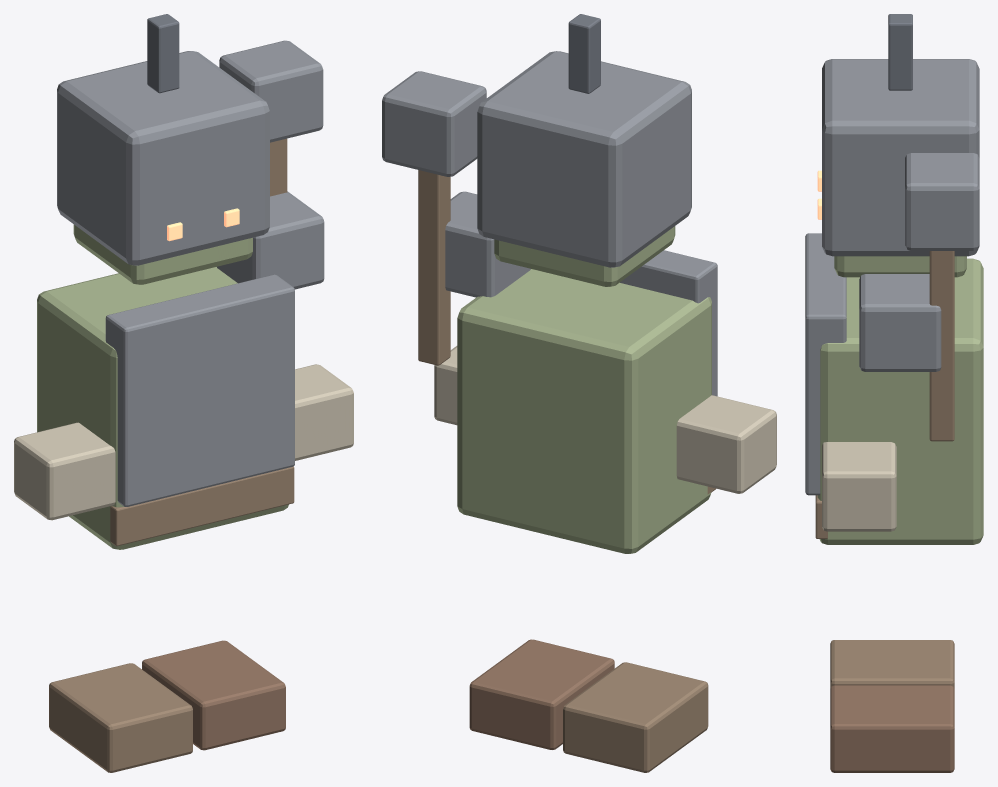
Rendered from iron_gob.glb.
3 renders of one model, left to right at view 1: azimuth 30°, elevation 25°; view 2: azimuth 150°, elevation 25°; view 3: azimuth 270°, elevation 25°, orthographic.
Parts seen in each view (by area): view 1: Head_helmet, Body_plate, Body_torso, Leg_L_boot, Leg_R_boot, Arm_L_wrap, Body_belt, Arm_R_hammer_head, Body_pauldron_R, Arm_R_wrap, Head_skull, Head_horn (+1 smaller); view 2: Body_torso, Head_helmet, Leg_L_boot, Leg_R_boot, Arm_R_hammer_head, Arm_L_wrap, Arm_R_hammer_haft, Body_pauldron_R, Body_plate, Head_skull, Head_horn, Arm_R_wrap; view 3: Body_torso, Head_helmet, Leg_R_boot, Body_pauldron_R, Arm_R_hammer_head, Arm_R_wrap, Body_plate, Leg_L_boot, Arm_R_hammer_haft, Head_skull, Head_horn, Body_belt.
Part boxes in pixels (x1,y1,x2,y2): Head_helmet: (57,51,269,265); Body_plate: (105,274,294,506); Body_torso: (37,267,288,549); Leg_L_boot: (49,663,192,772); Leg_R_boot: (142,640,285,750); Arm_L_wrap: (14,422,115,520); Body_belt: (110,466,294,546); Arm_R_hammer_head: (219,40,323,142); Body_pauldron_R: (217,191,324,289); Arm_R_wrap: (295,364,353,460); Head_skull: (73,224,252,284); Head_horn: (147,14,179,93); Body_torso: (457,269,711,553); Head_helmet: (477,51,691,267); Leg_L_boot: (563,662,708,772); Leg_R_boot: (469,639,614,749); Arm_R_hammer_head: (382,71,486,176); Arm_L_wrap: (676,395,776,493); Arm_R_hammer_haft: (418,170,450,365); Body_pauldron_R: (445,191,530,297); Body_plate: (620,250,717,396); Head_skull: (494,226,675,286); Head_horn: (568,14,600,93); Arm_R_wrap: (434,346,457,425); Body_torso: (817,258,983,544); Head_helmet: (822,59,979,256); Leg_R_boot: (830,685,954,772); Body_pauldron_R: (859,274,941,371); Arm_R_hammer_head: (905,153,979,250); Arm_R_wrap: (822,442,896,531); Body_plate: (805,233,846,495); Leg_L_boot: (830,640,954,688); Arm_R_hammer_haft: (929,251,954,441); Head_skull: (834,256,966,277); Head_horn: (888,14,912,90); Body_belt: (815,495,827,538).
Bounding box in the file's own units: 0.89 × 1.89 × 0.43.
